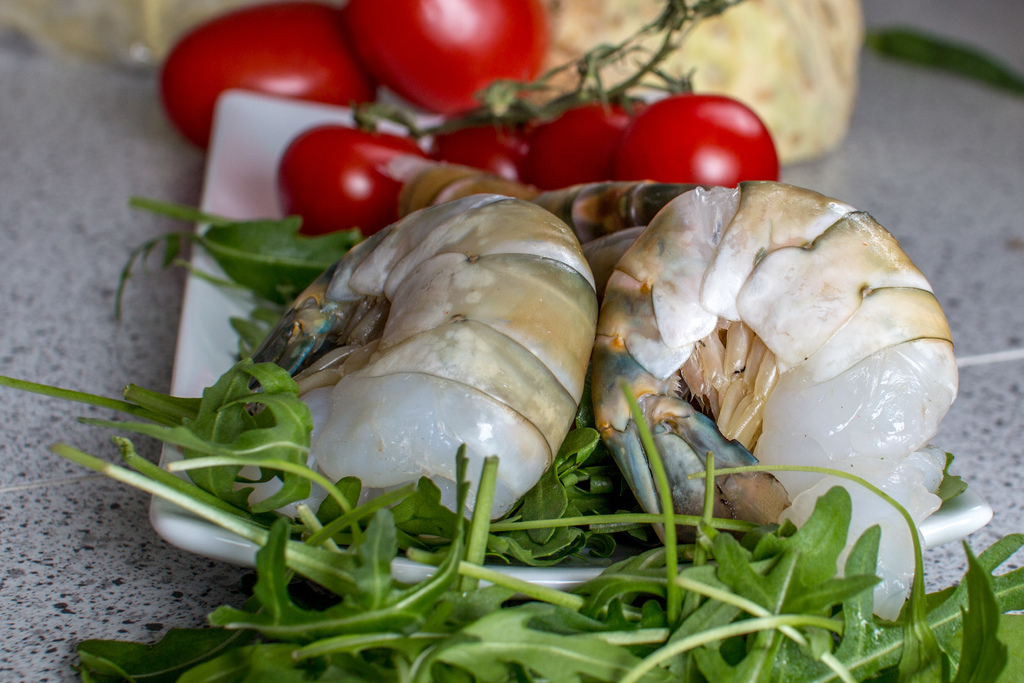Tomato: (154, 0, 380, 154), (341, 0, 557, 125), (609, 59, 787, 188), (277, 104, 442, 235), (523, 85, 650, 188), (432, 74, 540, 180)
